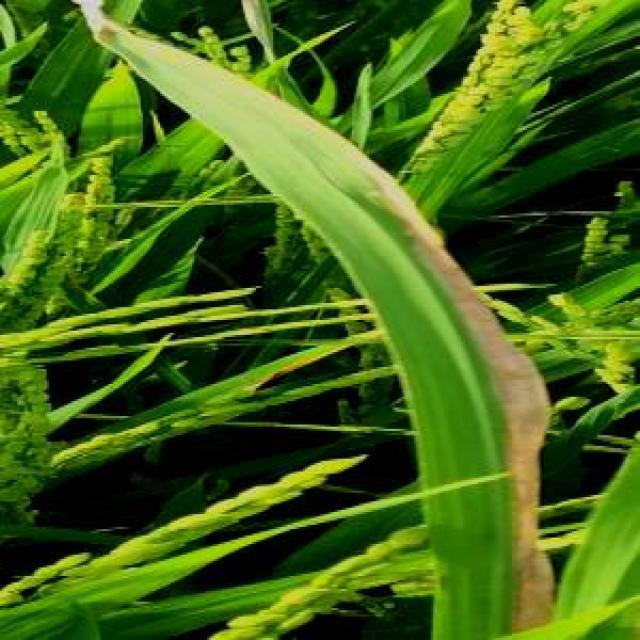Rice_Bacterial_Blight: (382, 228, 546, 638)
